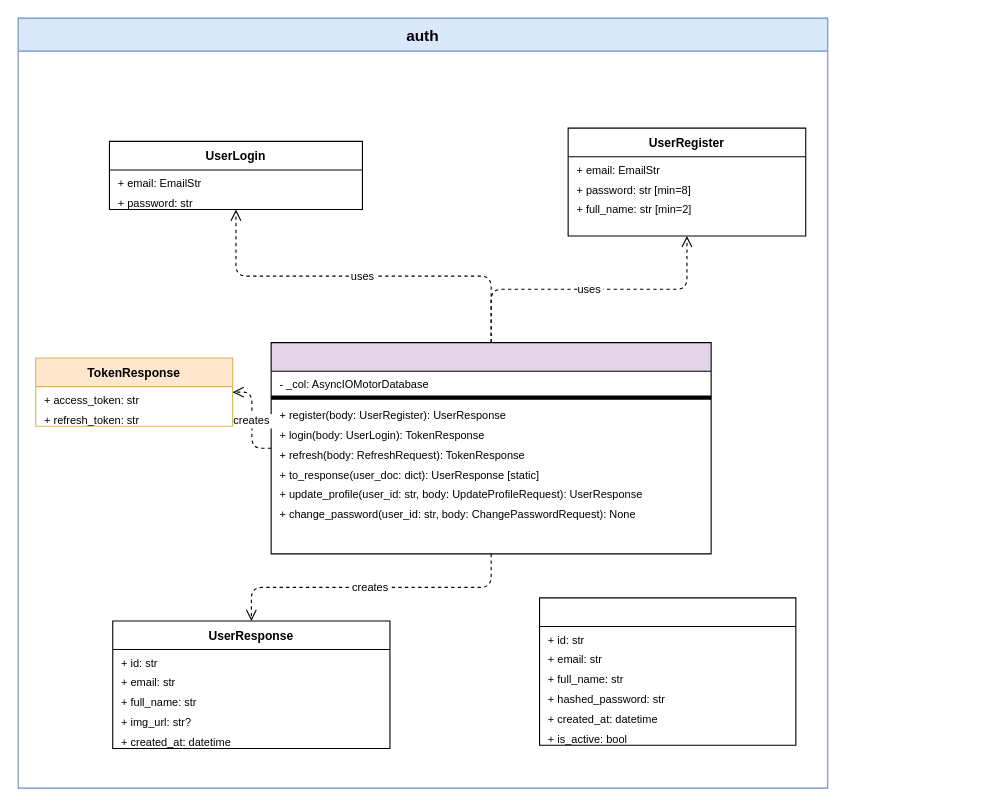
Some shapes in this 1004 by 806 pixel diagram are drawn without their labels. Here are the shapes that lost their labels. From the top down, the box of each, then its label:
(270, 342, 711, 554): AuthService
(538, 597, 796, 745): UserInDB
